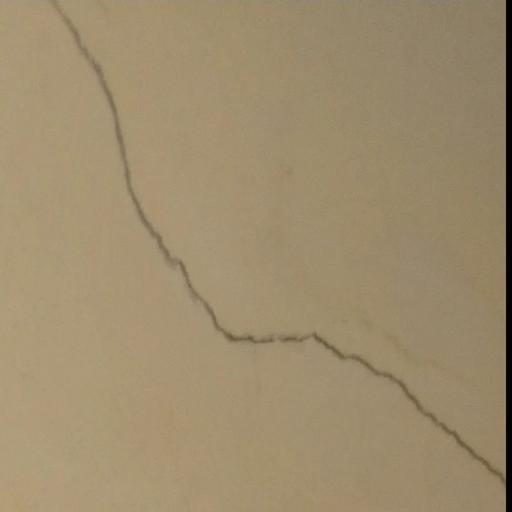minor_crack: (43, 0, 506, 510)
